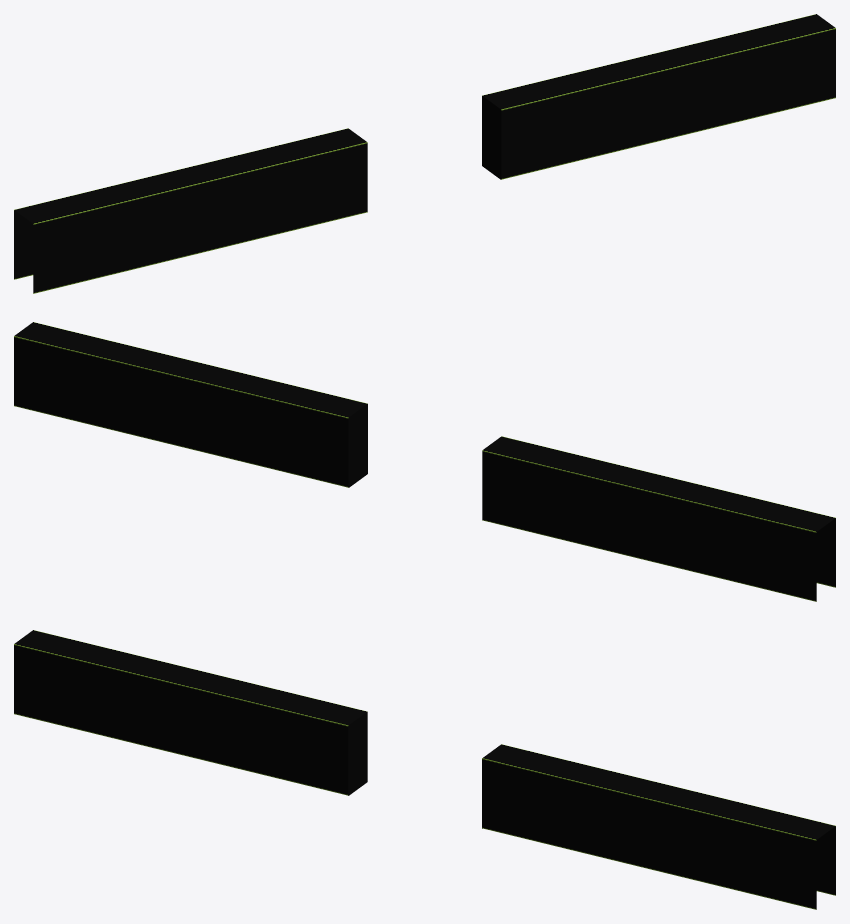
The model's file is Ghost_House_Gate_Wall.fbx.
3 renders of one model, top to bottom at view 1: azimuth 30°, elevation 25°; view 2: azimuth 150°, elevation 25°; view 3: azimuth 330°, elevation 25°, orthographic.
Visible parts, largest first — view 1: pasted__pasted__pCube1; view 2: pasted__pasted__pCube1; view 3: pasted__pasted__pCube1.
Part boxes in pixels (x1,y1,x2,y2): pasted__pasted__pCube1: (14, 14, 835, 293); pasted__pasted__pCube1: (14, 322, 835, 601); pasted__pasted__pCube1: (14, 630, 835, 909).
Bounding box in the file's own units: 600 × 50.36 × 25.
1 material, 1 textured.
